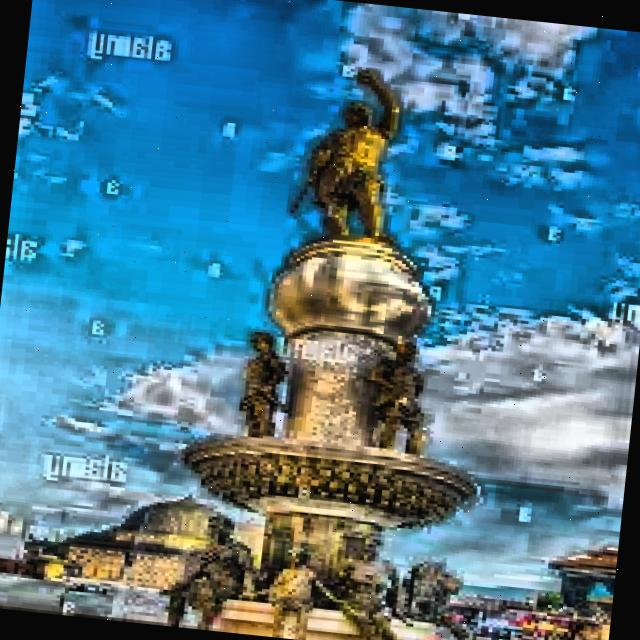Philip II of Macedonia: (153, 51, 523, 640)
